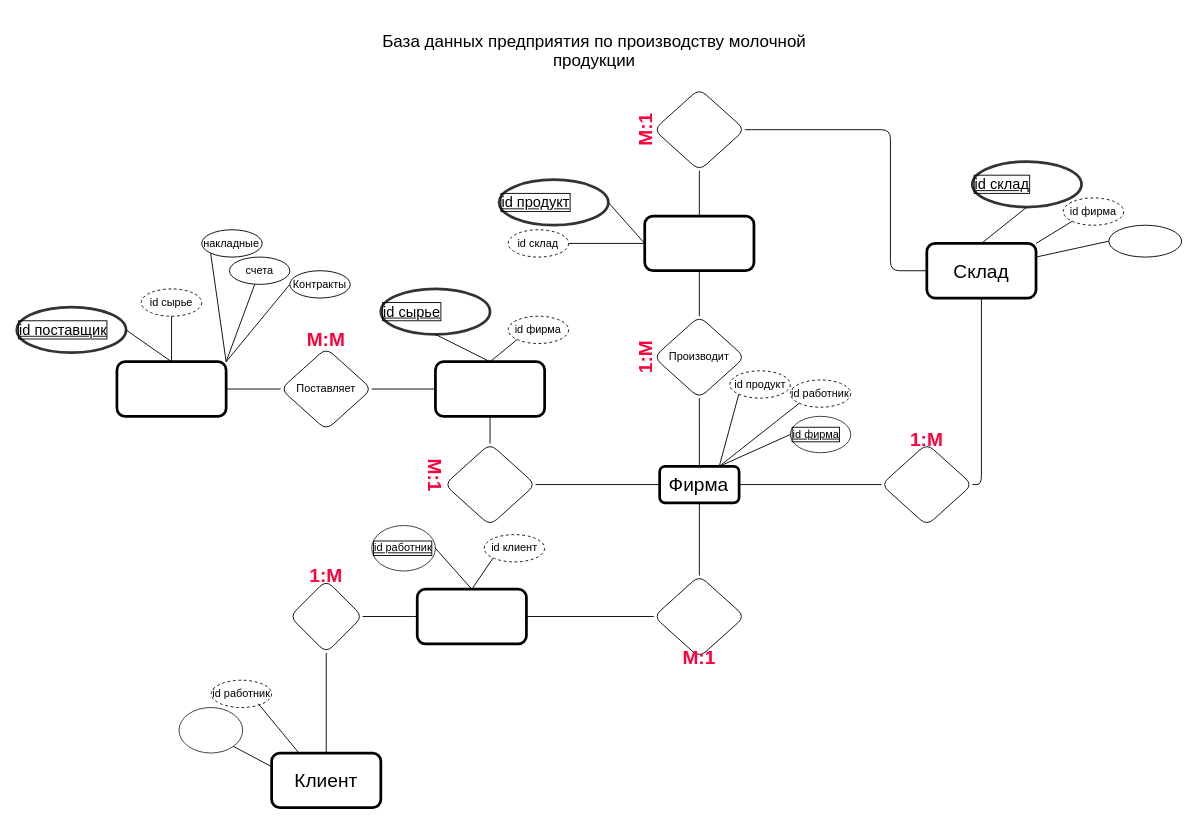
Image size: 1198x824. Some labels were removed from this diagram. Each missing label, with the box of its shape:
id клиента: (178, 707, 243, 753)
Используется: (444, 443, 536, 526)
Опустошает: (880, 443, 972, 526)
Осуществляет: (653, 575, 745, 657)
Отчёты по складу: (1108, 224, 1182, 257)
Поставщик: (115, 360, 227, 417)
Продажи: (415, 587, 527, 645)
Продукты: (643, 214, 755, 272)
Совершает: (289, 579, 363, 653)
Сырье: (434, 360, 546, 417)
Хранятся: (653, 88, 745, 171)
